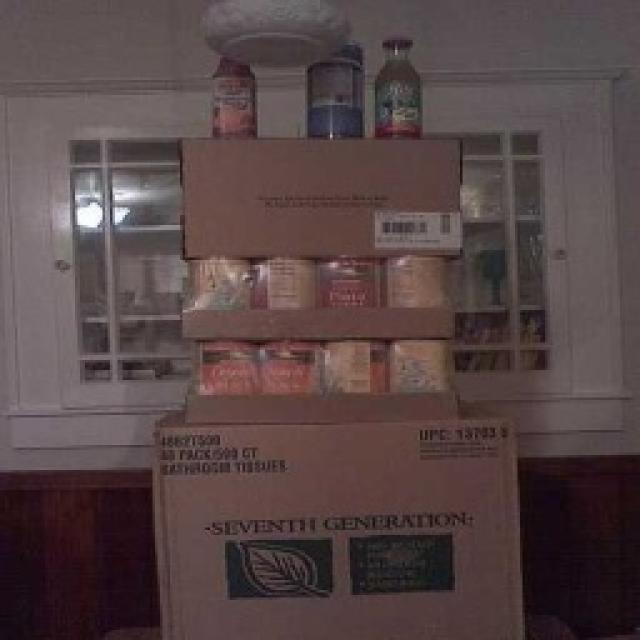box: (150, 425, 522, 640), (176, 139, 472, 254)
